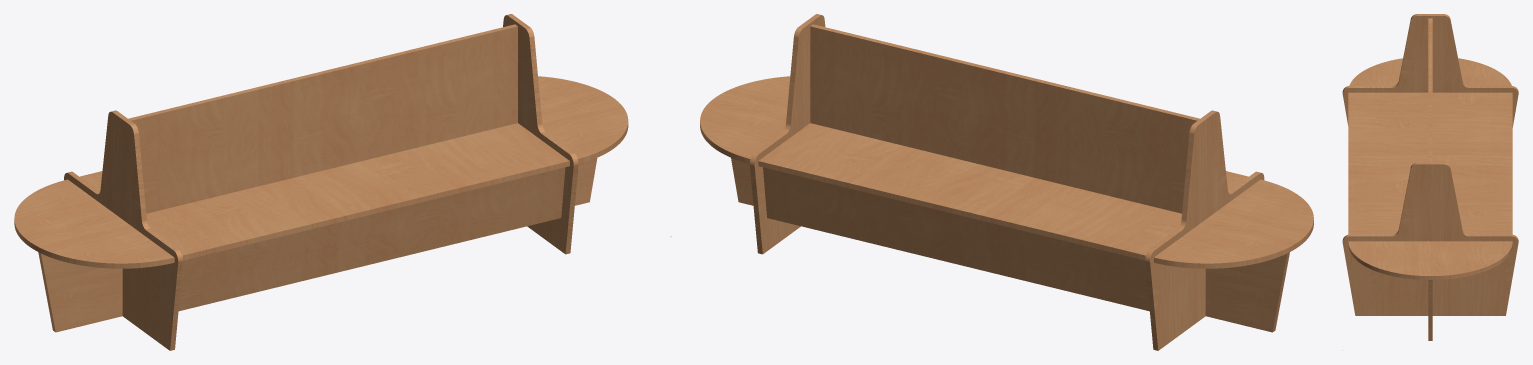
The model's file is divan_cheburashka_3_s_dvumja_bok_sid_derevo.glb.
The picture shows the model from 3 angles, left to right: view 1: azimuth 30°, elevation 25°; view 2: azimuth 150°, elevation 25°; view 3: azimuth 270°, elevation 25°; orthographic projection. The views are drawn at different scales.
Visible parts, largest first — view 1: Shape_IndexedFaceSet.004, Shape_IndexedFaceSet.007, Shape_IndexedFaceSet.006, Shape_IndexedFaceSet.008, Shape_IndexedFaceSet, Shape_IndexedFaceSet.002, Shape_IndexedFaceSet.001, Shape_IndexedFaceSet.009, Shape_IndexedFaceSet.003; view 2: Shape_IndexedFaceSet.004, Shape_IndexedFaceSet.007, Shape_IndexedFaceSet.005, Shape_IndexedFaceSet.008, Shape_IndexedFaceSet, Shape_IndexedFaceSet.002, Shape_IndexedFaceSet.001, Shape_IndexedFaceSet.009, Shape_IndexedFaceSet.003; view 3: Shape_IndexedFaceSet.007, Shape_IndexedFaceSet.009, Shape_IndexedFaceSet.002, Shape_IndexedFaceSet.008, Shape_IndexedFaceSet, Shape_IndexedFaceSet.004, Shape_IndexedFaceSet.003.
Boxes of the visible parts, <box> form: Shape_IndexedFaceSet.004: <box>128,24,517,213</box>; Shape_IndexedFaceSet.007: <box>80,123,569,260</box>; Shape_IndexedFaceSet.006: <box>178,167,565,311</box>; Shape_IndexedFaceSet.008: <box>64,110,183,350</box>; Shape_IndexedFaceSet: <box>14,179,174,268</box>; Shape_IndexedFaceSet.002: <box>538,76,628,163</box>; Shape_IndexedFaceSet.001: <box>38,252,122,332</box>; Shape_IndexedFaceSet.009: <box>503,14,578,254</box>; Shape_IndexedFaceSet.003: <box>575,158,597,205</box>; Shape_IndexedFaceSet.004: <box>810,24,1199,213</box>; Shape_IndexedFaceSet.007: <box>758,123,1248,260</box>; Shape_IndexedFaceSet.005: <box>763,167,1149,311</box>; Shape_IndexedFaceSet.008: <box>1145,110,1264,350</box>; Shape_IndexedFaceSet: <box>1154,179,1313,268</box>; Shape_IndexedFaceSet.002: <box>700,76,790,163</box>; Shape_IndexedFaceSet.001: <box>1205,252,1289,332</box>; Shape_IndexedFaceSet.009: <box>749,14,825,254</box>; Shape_IndexedFaceSet.003: <box>731,158,753,205</box>; Shape_IndexedFaceSet.007: <box>1348,92,1512,234</box>; Shape_IndexedFaceSet.009: <box>1342,162,1518,315</box>; Shape_IndexedFaceSet.002: <box>1348,241,1512,279</box>; Shape_IndexedFaceSet.008: <box>1342,14,1518,127</box>; Shape_IndexedFaceSet: <box>1349,58,1511,85</box>; Shape_IndexedFaceSet.004: <box>1428,18,1432,162</box>; Shape_IndexedFaceSet.003: <box>1428,280,1432,340</box>.
Size of the model in its own units: 1901 by 611 by 643.
Materials: 11 (10 with a texture image).
